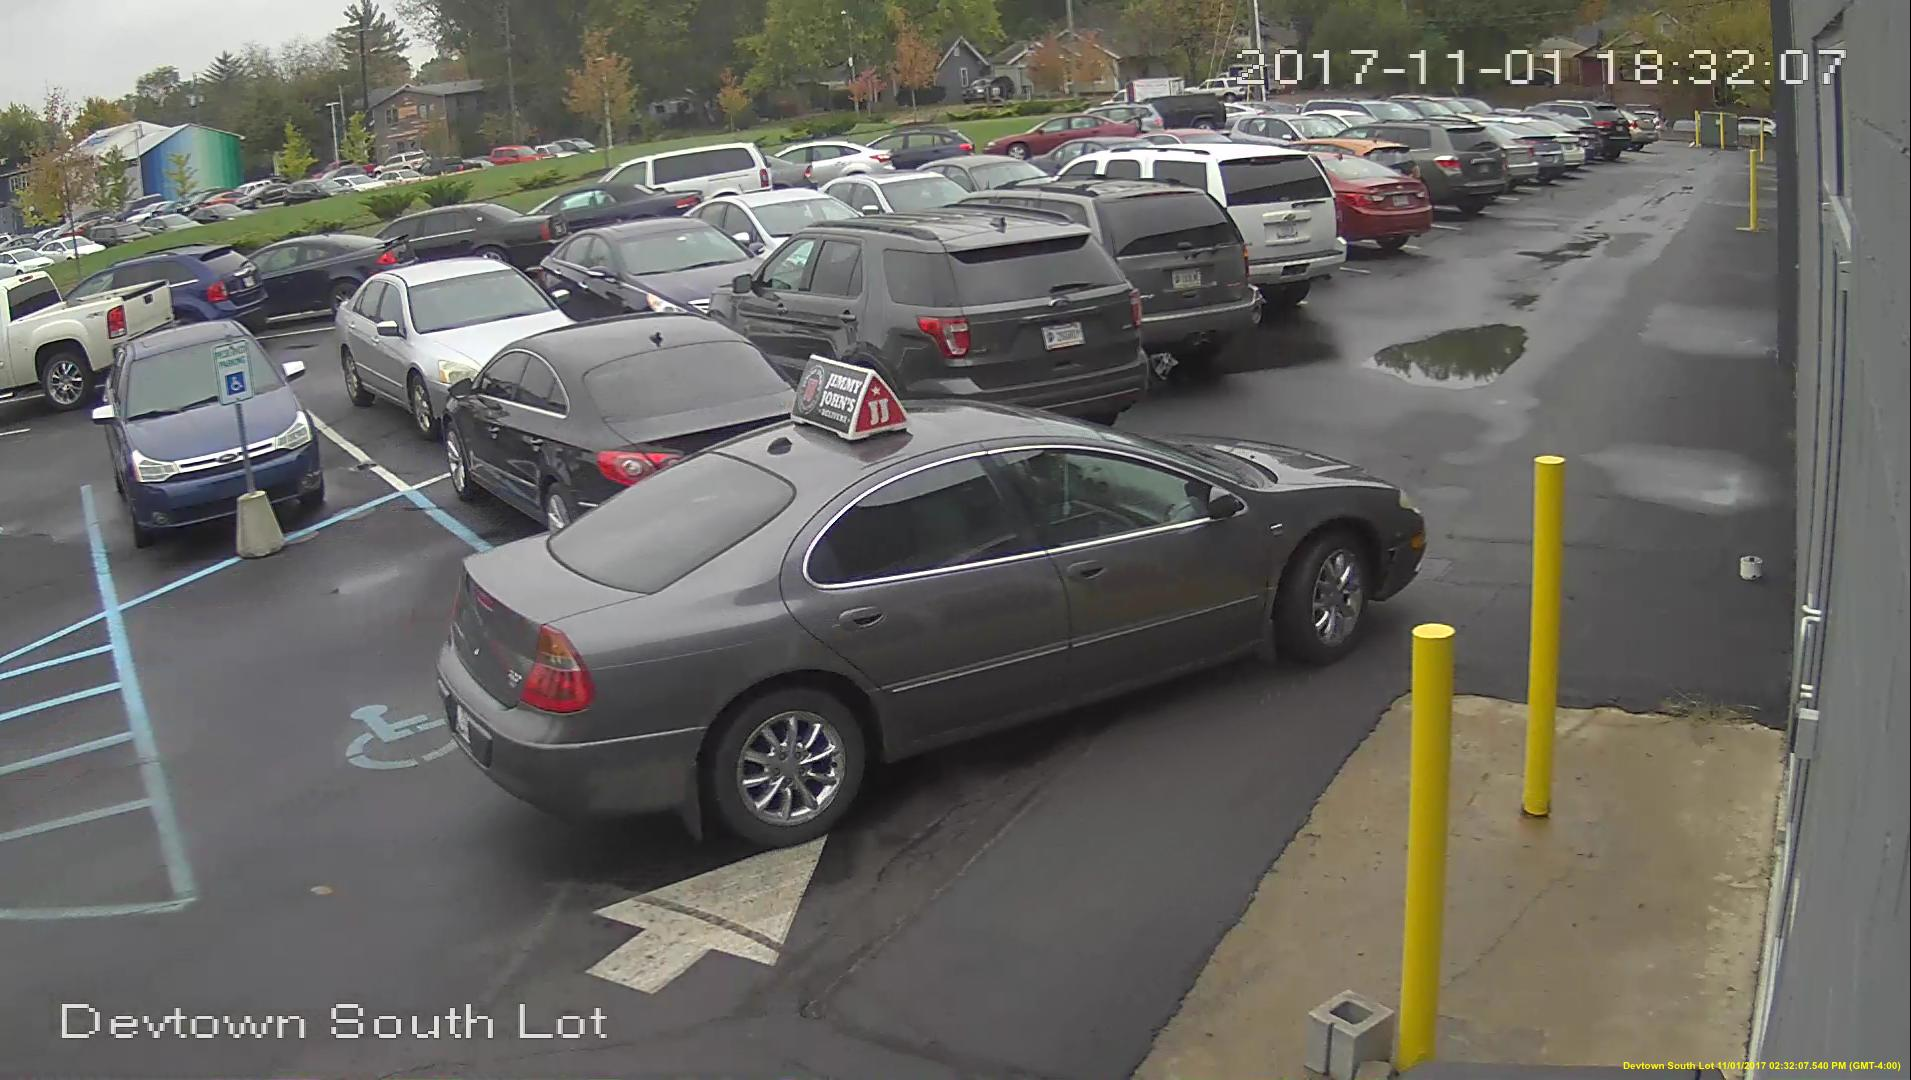jimmy_johns: (787, 353, 917, 444)
